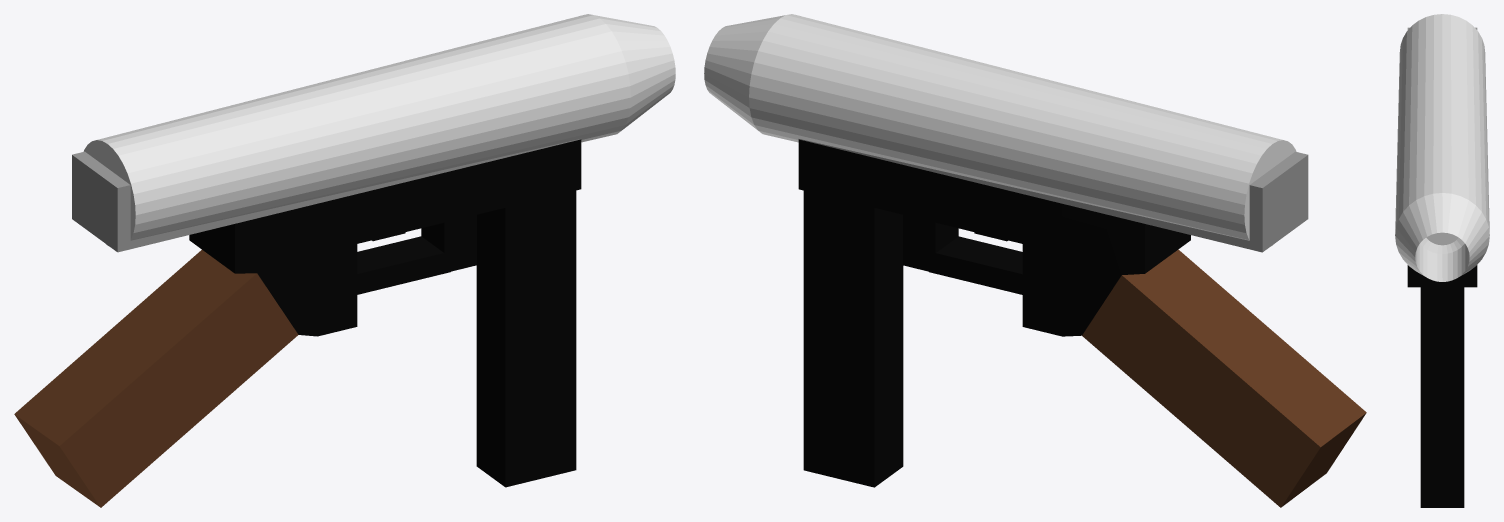
The model's file is Machine Pistol.fbx.
The picture shows the model from 3 angles, left to right: view 1: azimuth 30°, elevation 25°; view 2: azimuth 150°, elevation 25°; view 3: azimuth 270°, elevation 25°; orthographic projection. The views are drawn at different scales.
Visible parts, largest first — view 1: Cube, Cylinder, Cube.001; view 2: Cube, Cylinder, Cube.001; view 3: Cylinder, Cube.001, Cube.
Boxes of the visible parts, box(x1,y1,x2,y2) form: Cube: box(14, 139, 581, 507); Cylinder: box(83, 14, 675, 245); Cube.001: box(476, 190, 576, 487); Cube: box(798, 139, 1366, 507); Cylinder: box(704, 14, 1296, 245); Cube.001: box(803, 190, 903, 487); Cylinder: box(1395, 14, 1489, 281); Cube.001: box(1420, 274, 1464, 507); Cube: box(1407, 27, 1477, 287).
Bounding box in the file's own units: 663 × 441 × 115.
